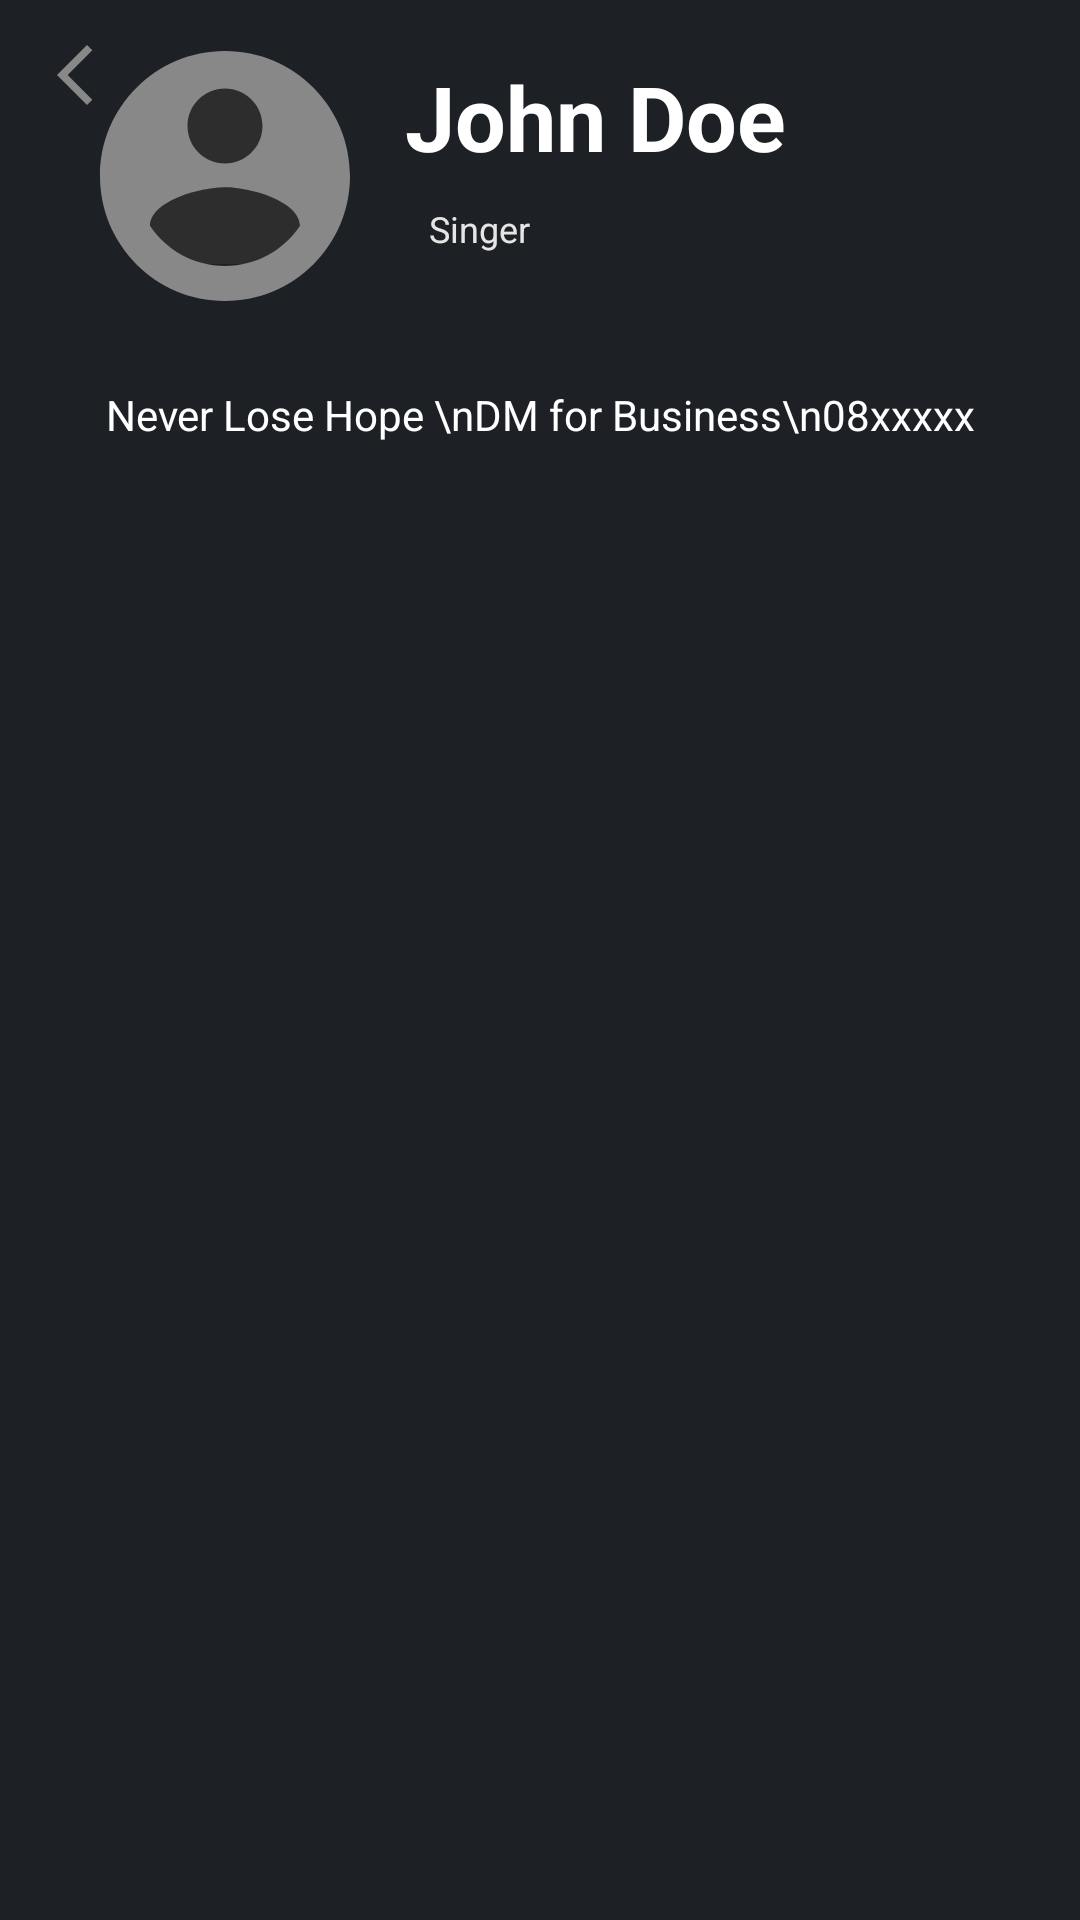

Icon click points for this 1080px×1920px phone screenshot, format point (x, y):
account: point (225, 176)
